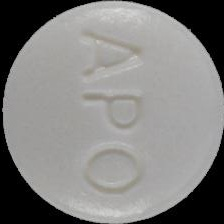0904-5522: (0, 0, 224, 224)
